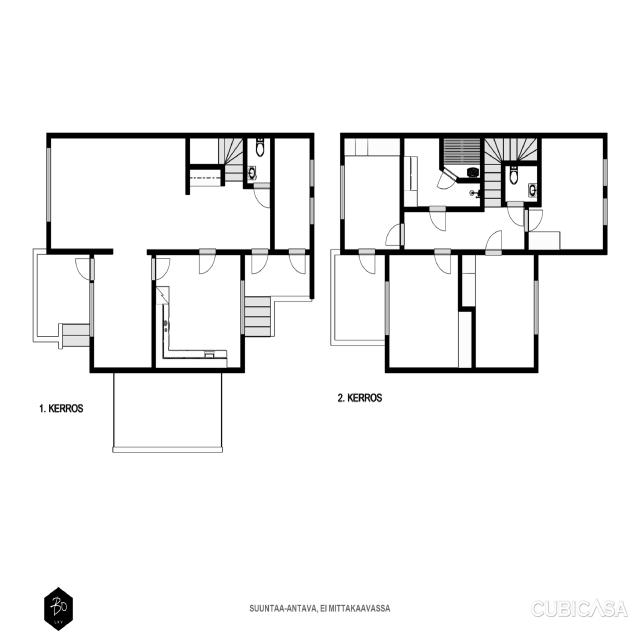door: (483, 227, 505, 255), (427, 204, 449, 232), (252, 182, 273, 211), (150, 255, 172, 282), (197, 247, 216, 278), (72, 255, 94, 281), (250, 248, 270, 276), (288, 248, 308, 276), (434, 247, 453, 276), (505, 202, 526, 228), (524, 206, 544, 233), (358, 247, 377, 275), (384, 222, 404, 248)
window: (43, 144, 54, 225), (337, 162, 347, 225), (382, 280, 392, 338), (238, 282, 248, 338), (86, 280, 95, 341), (602, 158, 609, 234), (532, 280, 541, 338), (105, 246, 152, 257), (308, 192, 316, 230), (308, 156, 316, 191), (602, 194, 609, 228), (602, 156, 608, 191)
zone: (48, 135, 244, 254), (154, 252, 242, 370), (386, 252, 469, 371), (461, 251, 538, 369), (531, 136, 606, 252), (92, 250, 153, 370), (342, 134, 402, 252), (400, 135, 482, 209), (273, 138, 312, 252), (442, 136, 482, 181), (503, 165, 541, 205), (245, 135, 272, 188)
